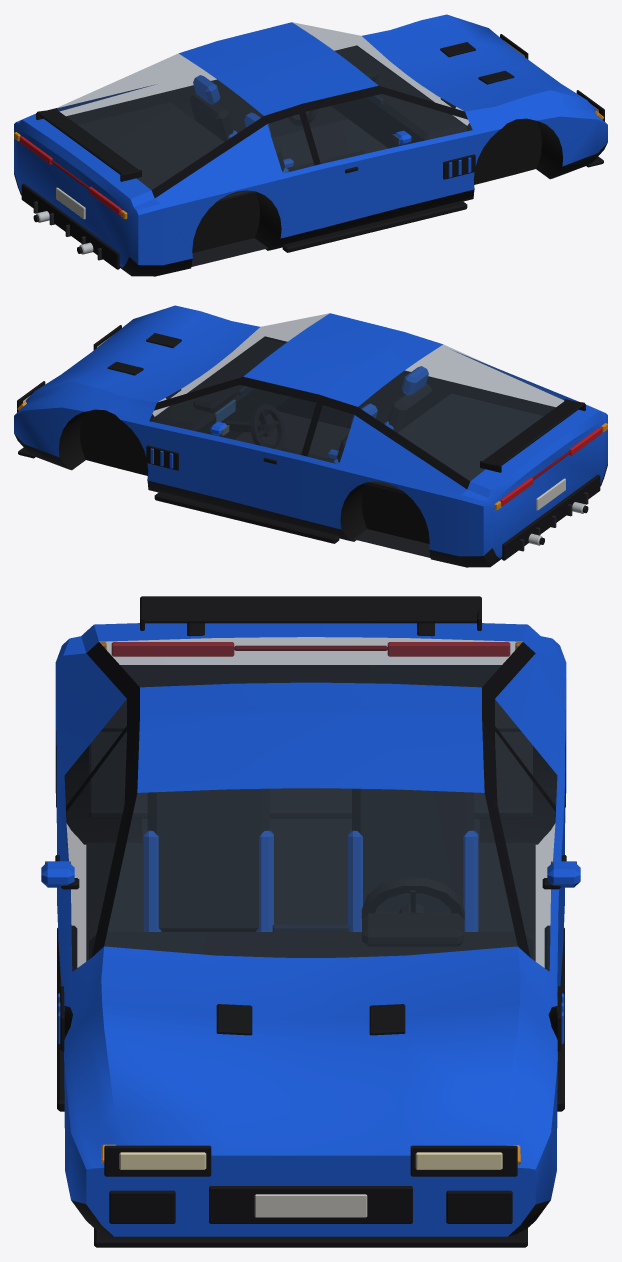
Rendered from falcon.glb.
3 views of the same model, one above another, from view 1: azimuth 30°, elevation 25°; view 2: azimuth 150°, elevation 25°; view 3: azimuth 270°, elevation 25° (orthographic). The views are drawn at different scales.
Parts seen in each view (by area): view 1: Body, Glass, Interior, Details, TailLights; view 2: Body, Glass, Interior, Details, TailLights; view 3: Body, Glass, Interior, Details, TailLights, HeadLights.
Part boxes in pixels (x1,y1,x2,y2): Body: (14, 14, 607, 276); Glass: (57, 22, 472, 189); Interior: (66, 45, 469, 266); Details: (33, 108, 141, 260); TailLights: (19, 136, 121, 215); Body: (14, 305, 607, 567); Glass: (149, 313, 564, 480); Interior: (152, 336, 555, 557); Details: (480, 399, 588, 551); TailLights: (500, 427, 602, 506); Body: (41, 623, 580, 1247); Glass: (65, 637, 556, 970); Interior: (86, 665, 535, 961); Details: (140, 596, 481, 636); TailLights: (111, 642, 510, 656); HeadLights: (119, 1152, 502, 1169).
Size of the model in its own units: 4.5 by 1.11 by 2.11.
